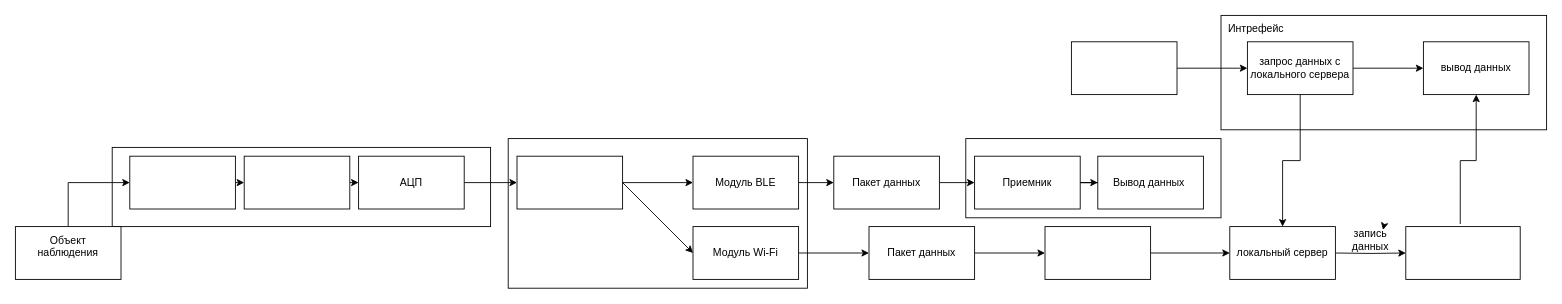
This 1562x304 diagram has some shape labels left out. Each missing label, with the box of its shape:
ip адрес локального сервера: (1044, 226, 1151, 279)
БД: (1405, 226, 1520, 279)
Микроконтроллер: (516, 155, 623, 209)
Пользователь: (1071, 41, 1177, 95)
уселитель заряда: (243, 155, 350, 209)
чувствительный элемент: (129, 155, 235, 209)
